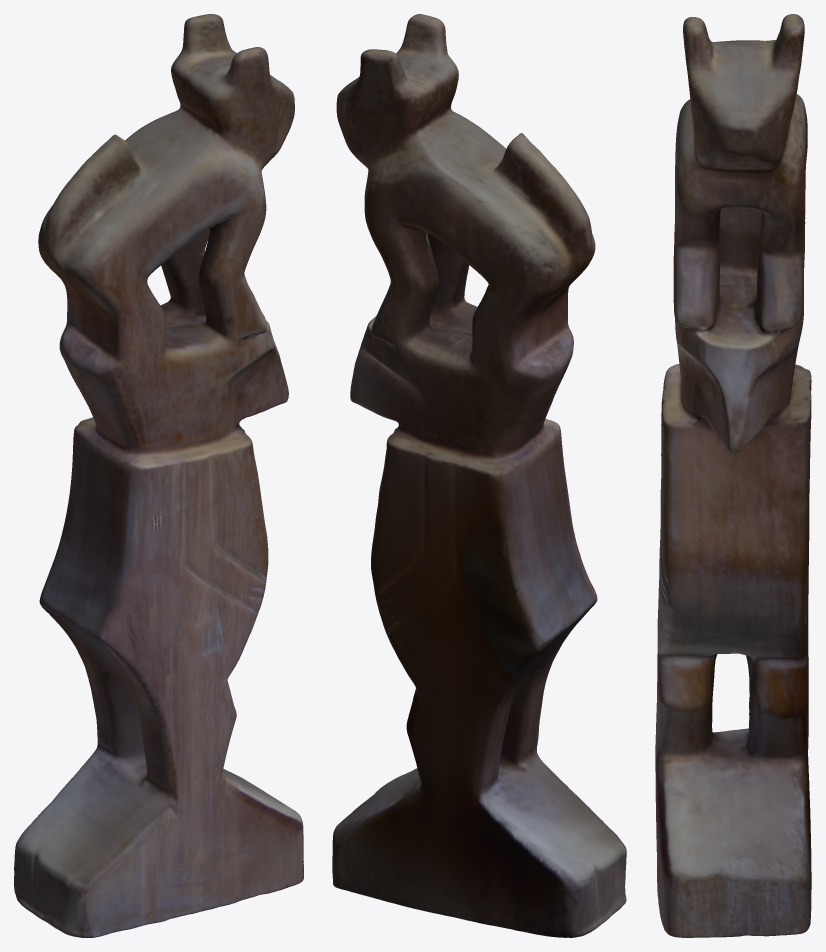
Rendered from modelo.glb.
The picture shows the model from 3 angles, left to right: view 1: azimuth 30°, elevation 25°; view 2: azimuth 150°, elevation 25°; view 3: azimuth 270°, elevation 25°; orthographic projection. The views are drawn at different scales.
Parts seen in each view (by area): view 1: CAL.0504; view 2: CAL.0504; view 3: CAL.0504.
Part boxes in pixels (bbox=[...]): CAL.0504: bbox=[14, 14, 303, 937]; CAL.0504: bbox=[332, 14, 626, 937]; CAL.0504: bbox=[655, 14, 811, 937].
Bounding box in the file's own units: 0.0786 × 0.2436 × 0.0384.
1 material, 1 textured.
